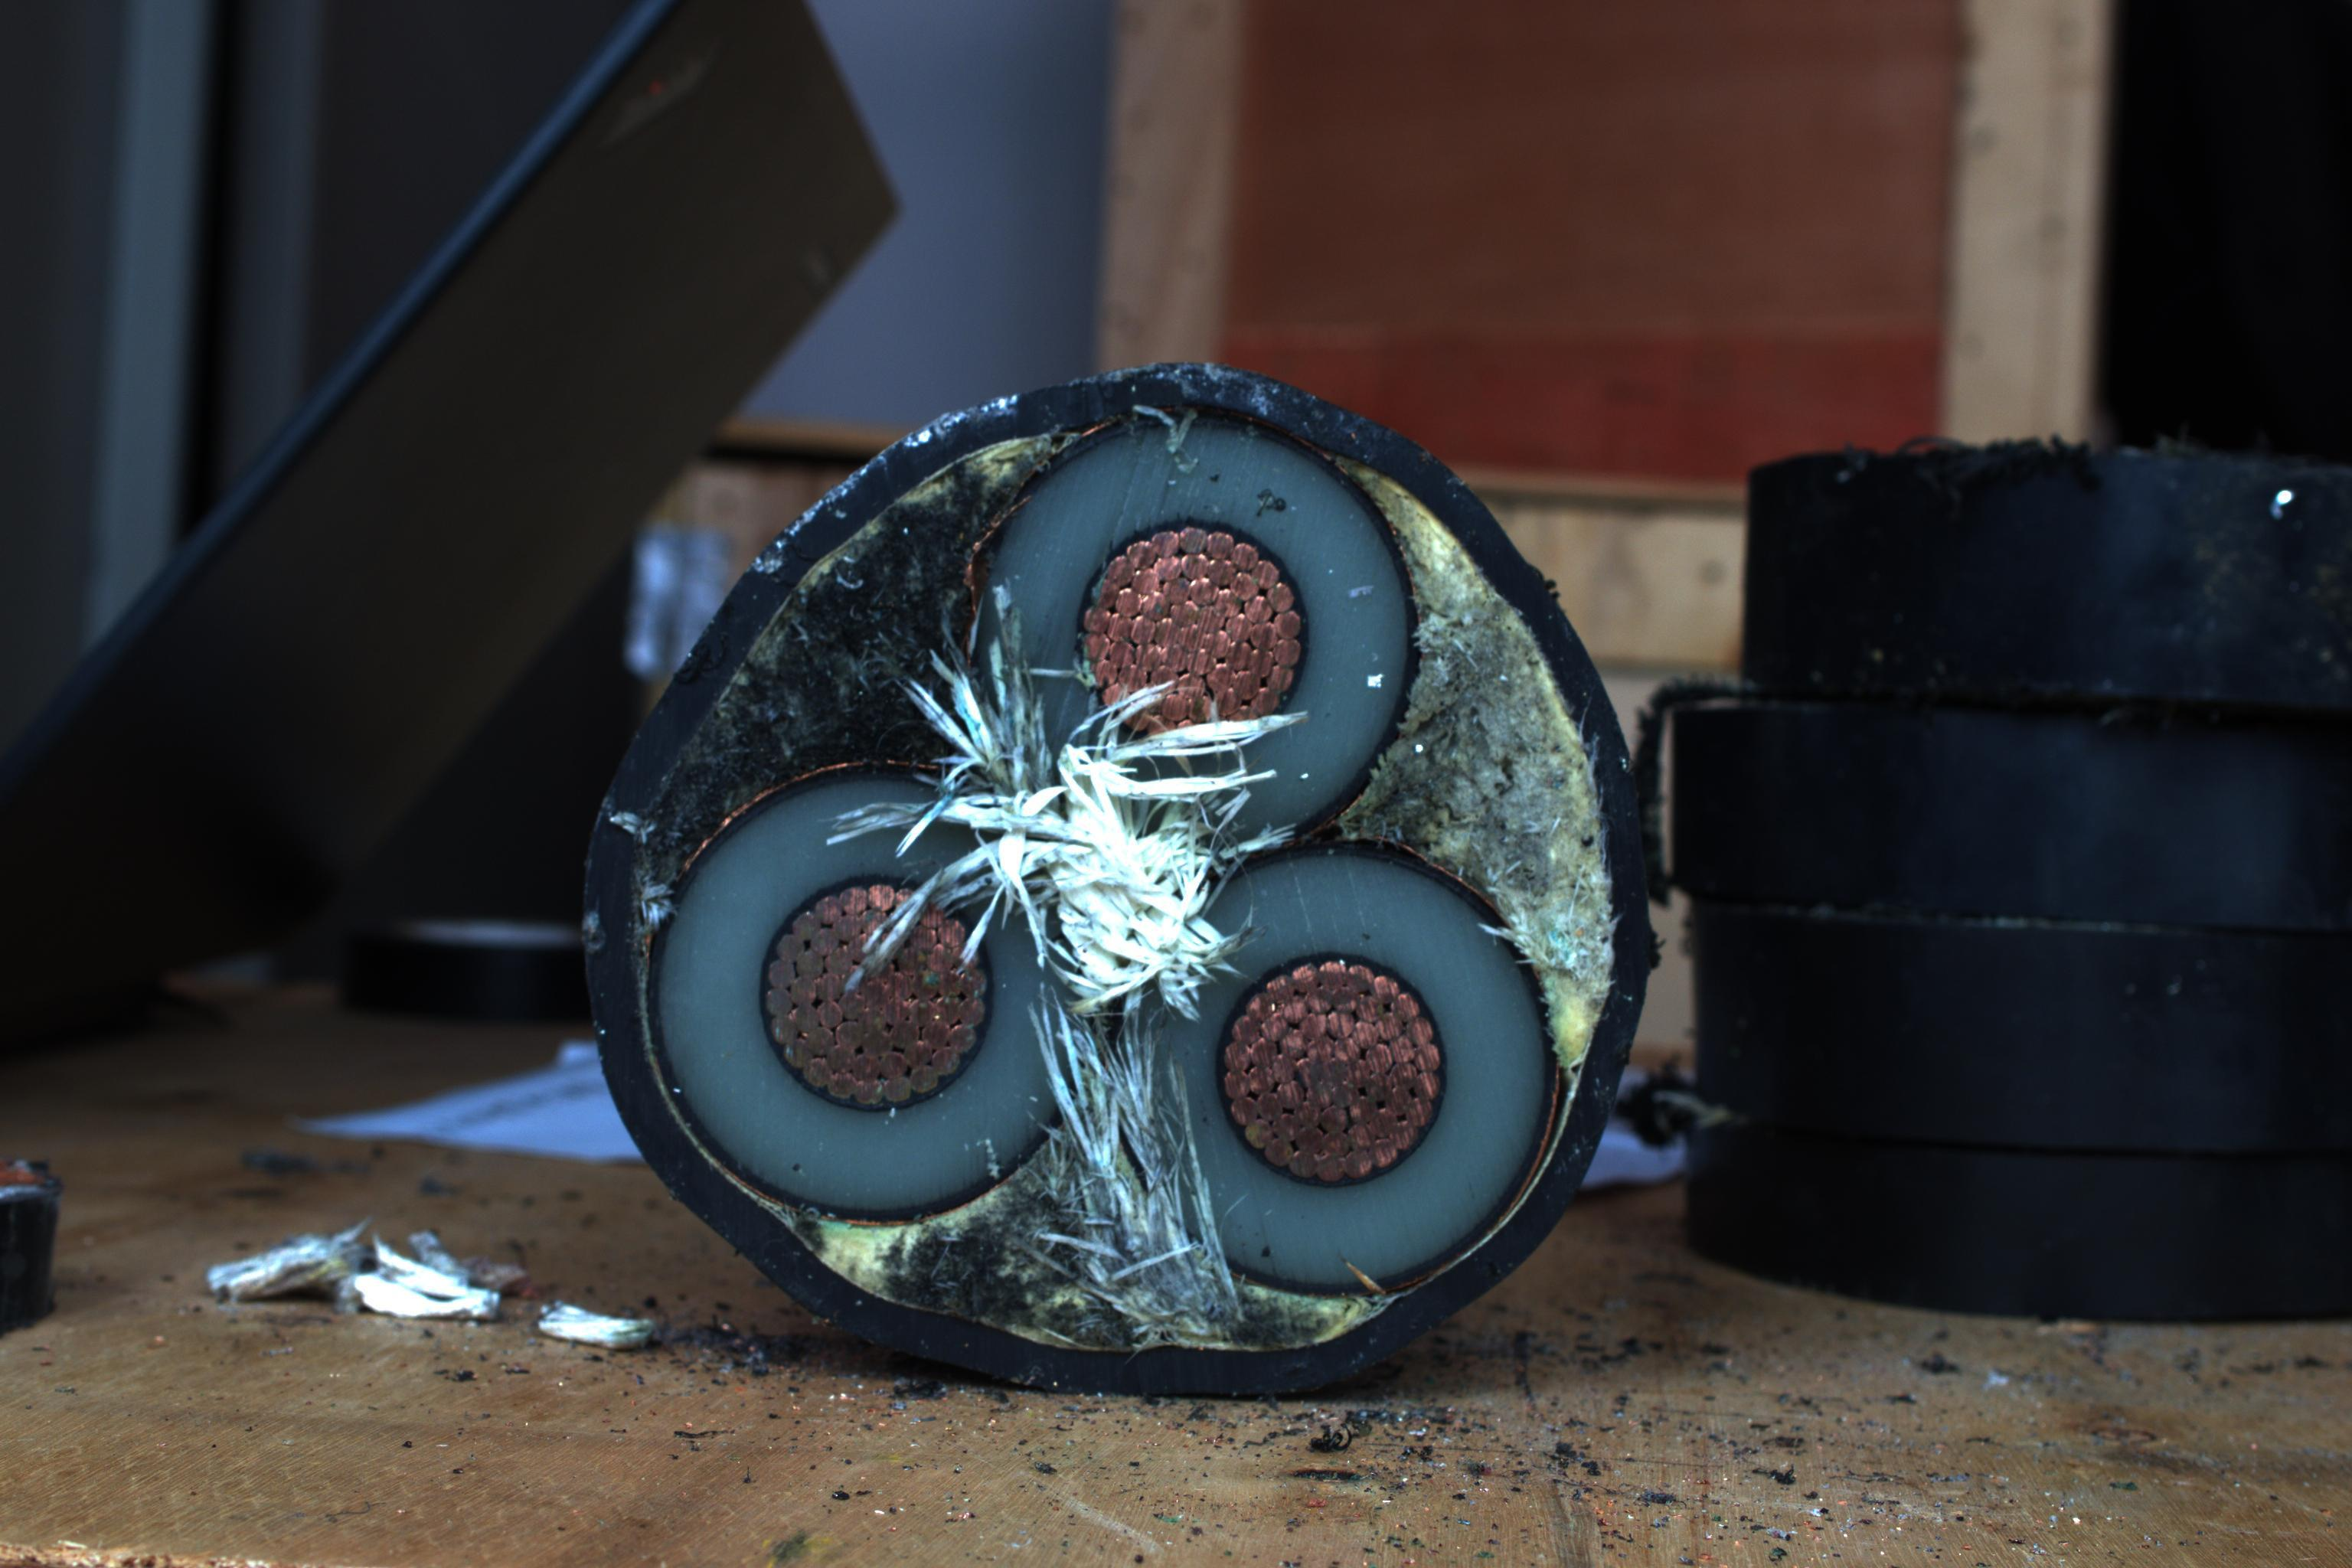ZA_YJV_26_35kV_3x400: (581, 366, 1731, 1382)
